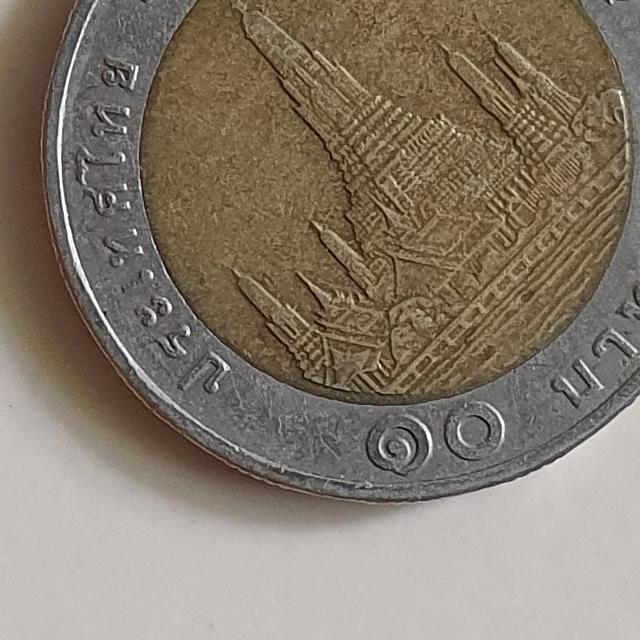10 Bath: (32, 1, 640, 510)
